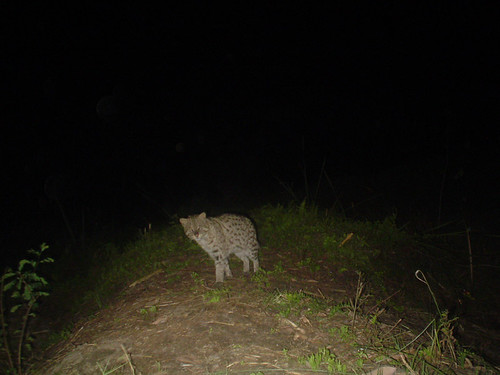cat: (161, 195, 282, 285)
